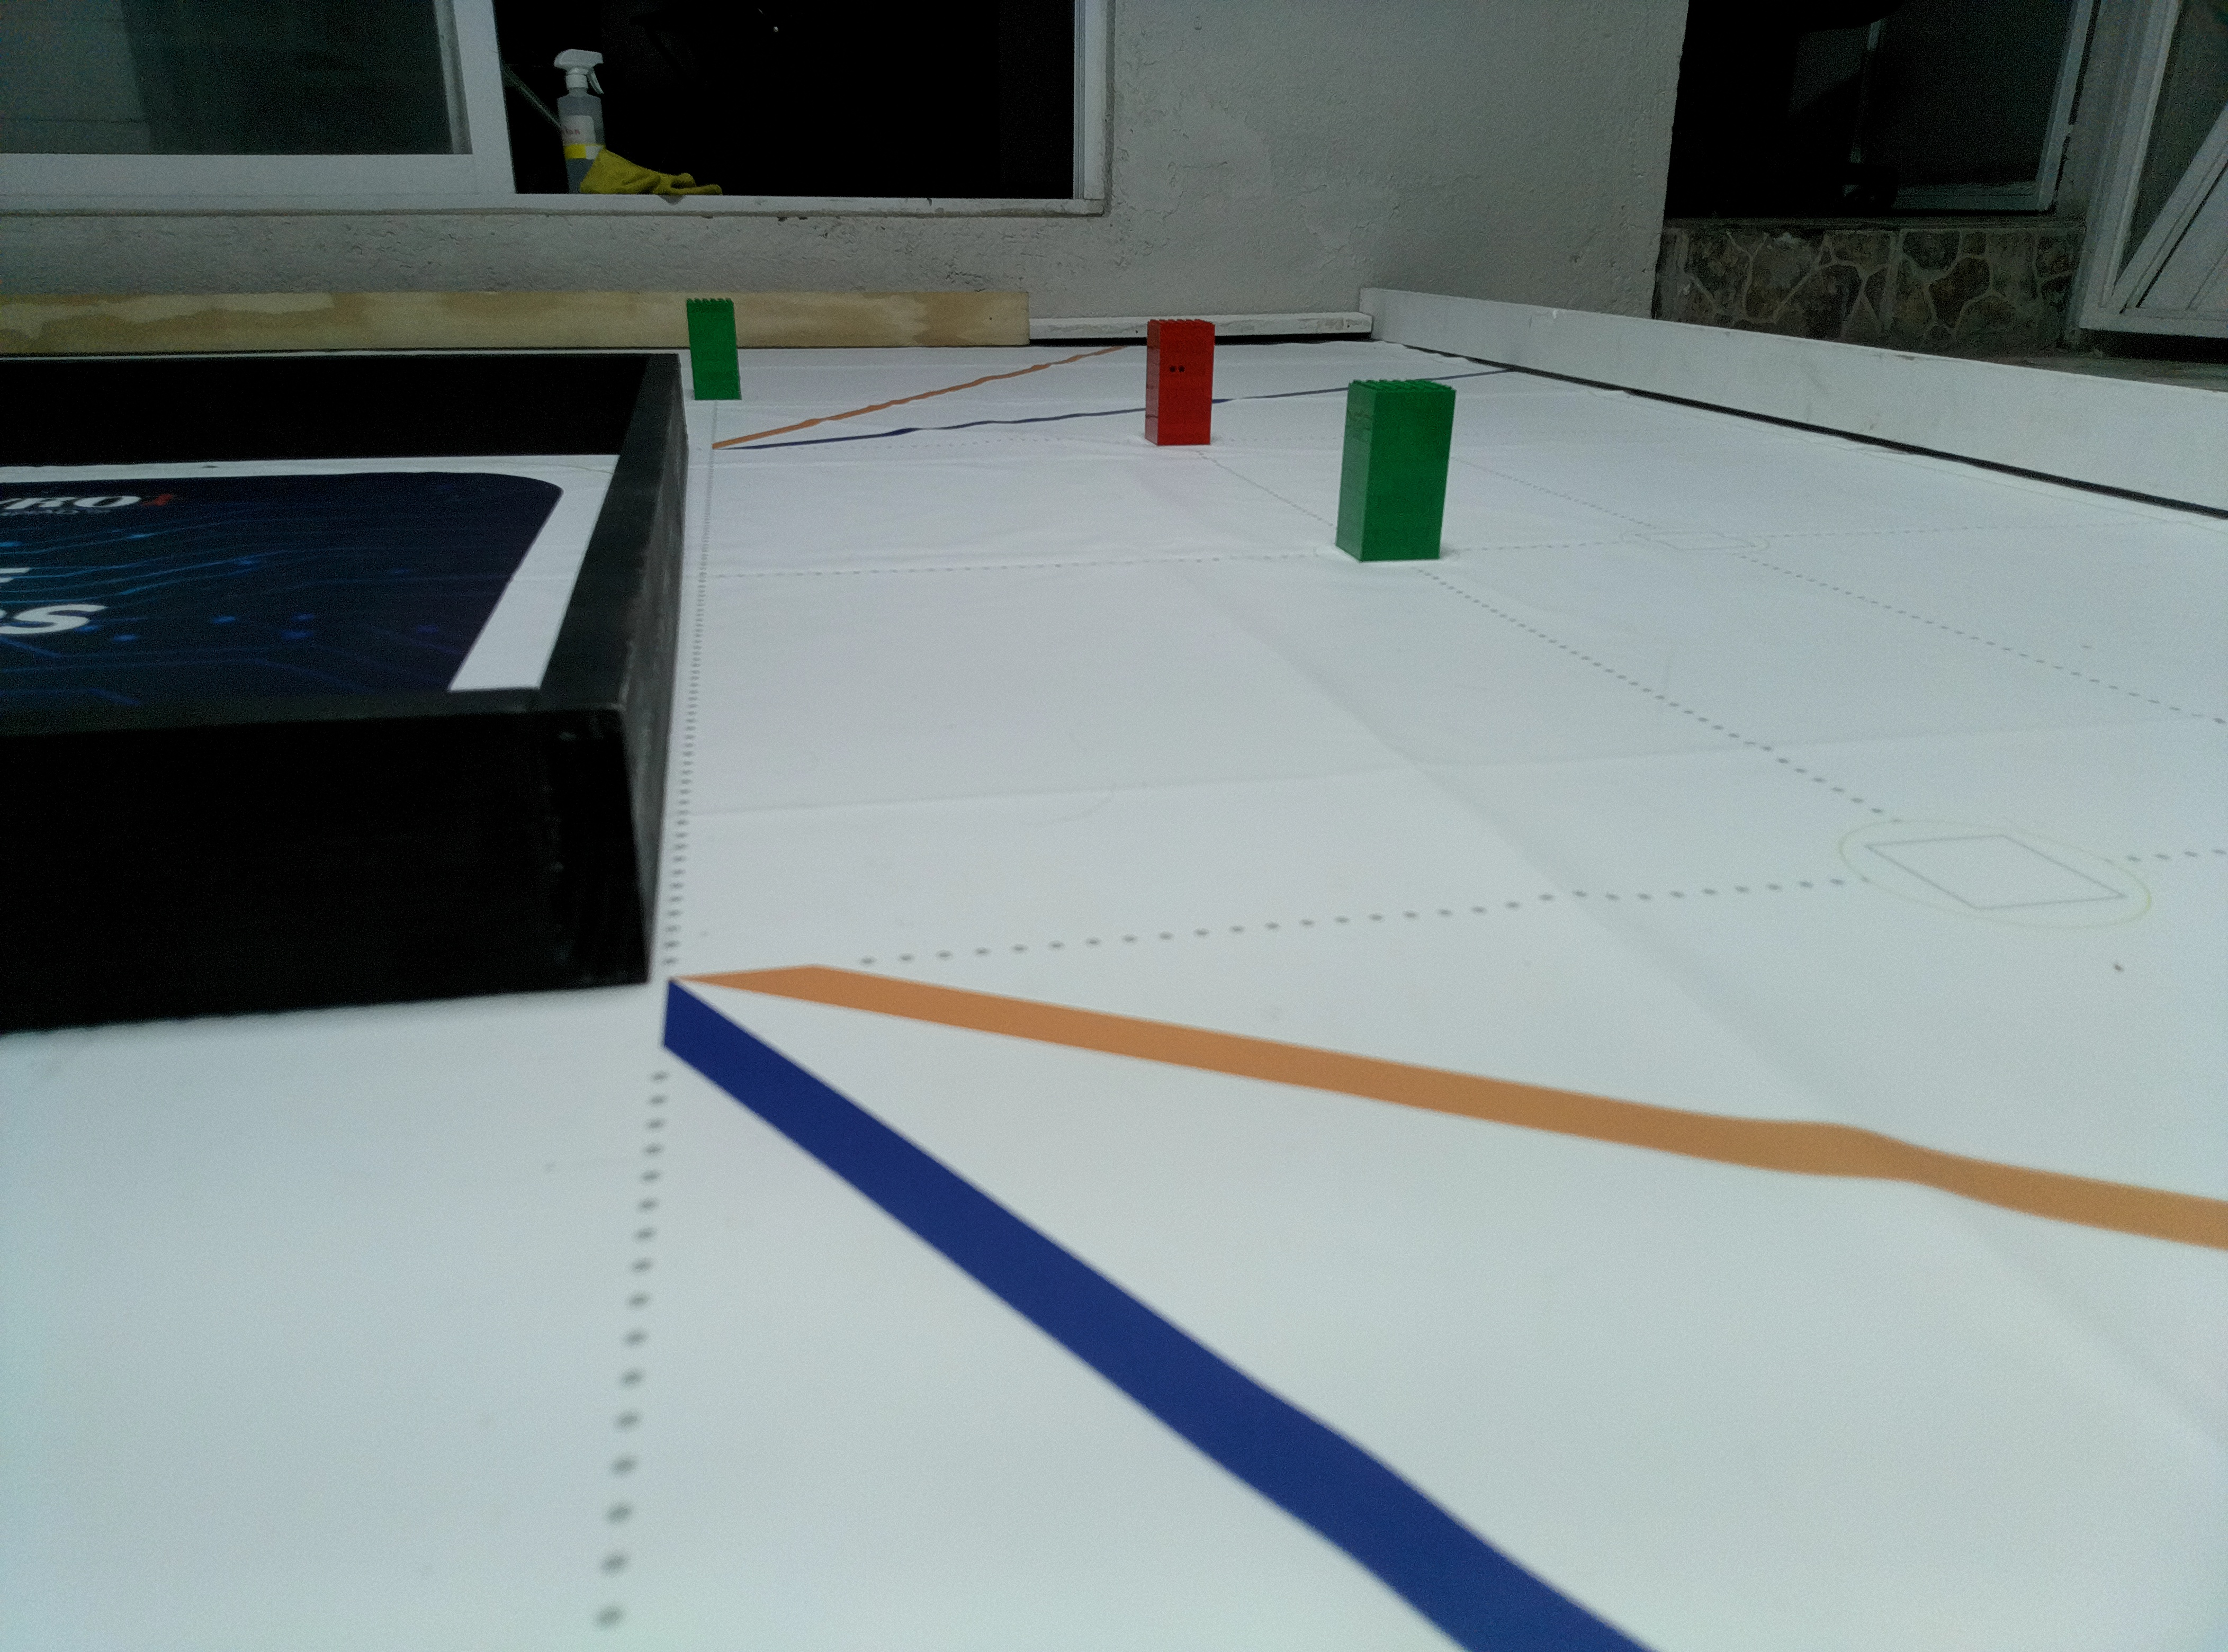greenbox: (1331, 373, 1461, 567), (684, 297, 746, 404)
redbox: (1143, 311, 1218, 448)
